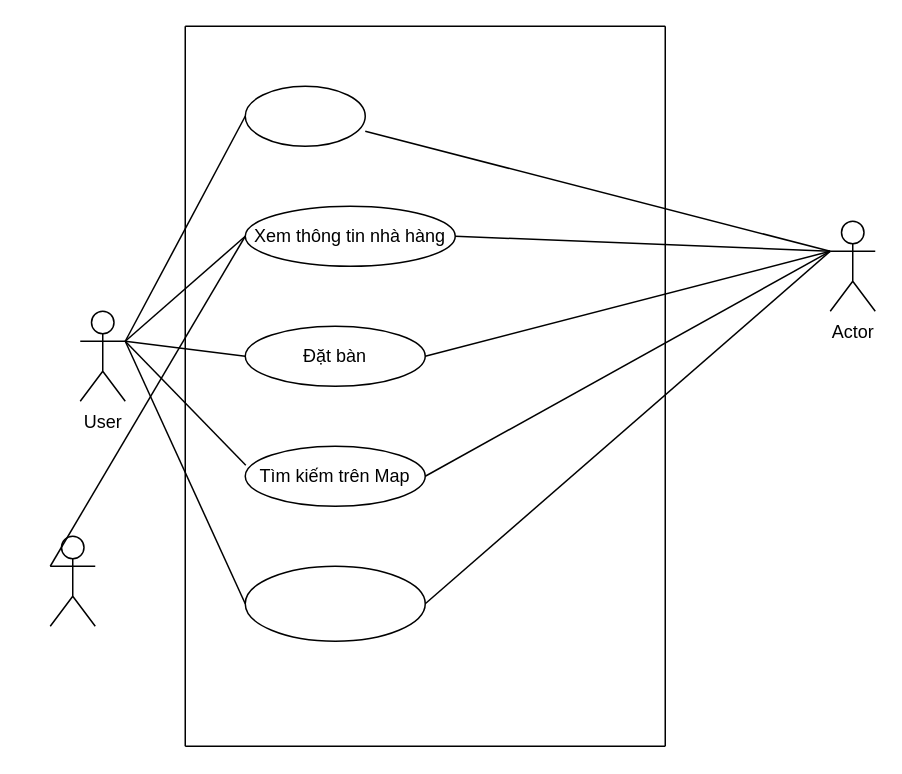
Some shapes in this 902 by 774 pixel diagram are drawn without their labels. Here are the shapes that lost their labels. From the top down, the centre of each, then its label:
At point 304,115: "Tìm Kiếm".
At point 72,580: "Restaurant".
At point 334,603: "Đăng nhập".
